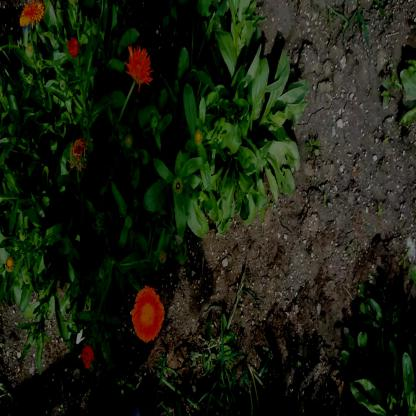marigold: (131, 287, 162, 340), (122, 43, 150, 86), (20, 5, 45, 21)
